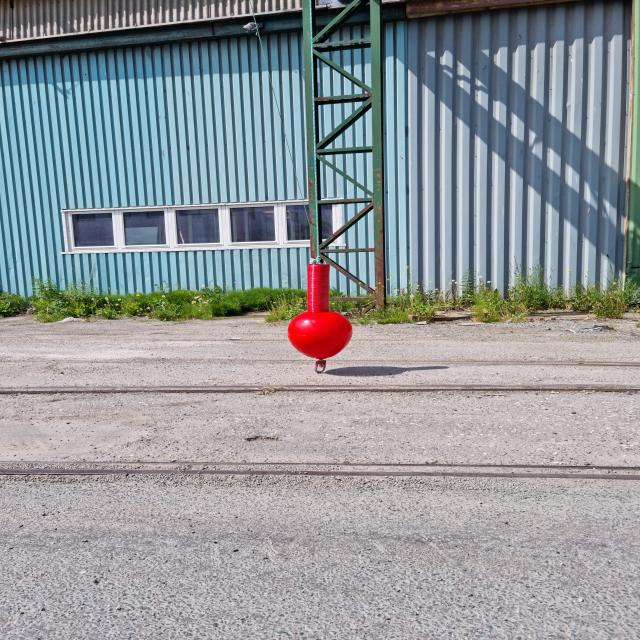red: (288, 264, 352, 358)
